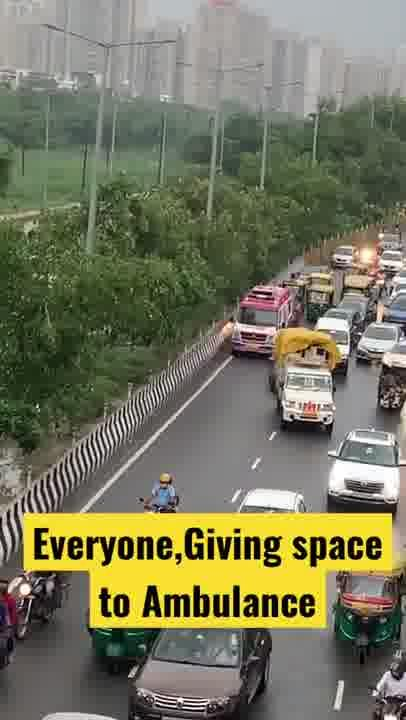AMBULANCE: (231, 283, 294, 352)
